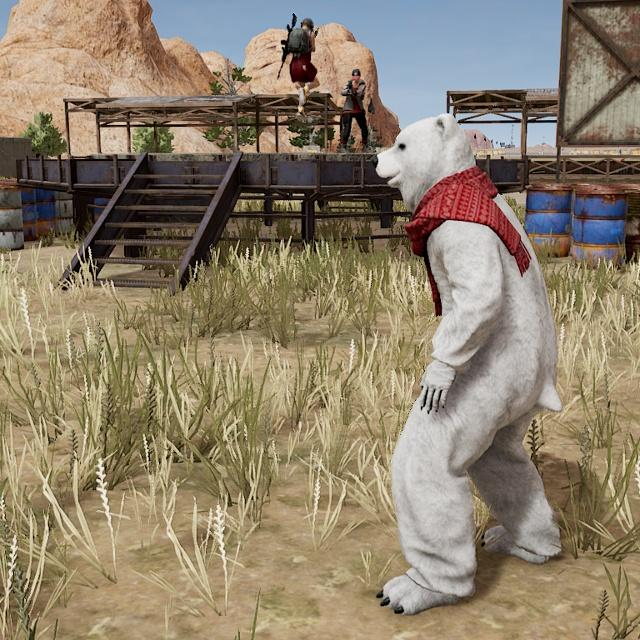head: (368, 114, 484, 209), (297, 13, 318, 35), (346, 66, 364, 83)
people: (360, 107, 567, 619), (281, 13, 324, 116), (336, 65, 376, 156)
